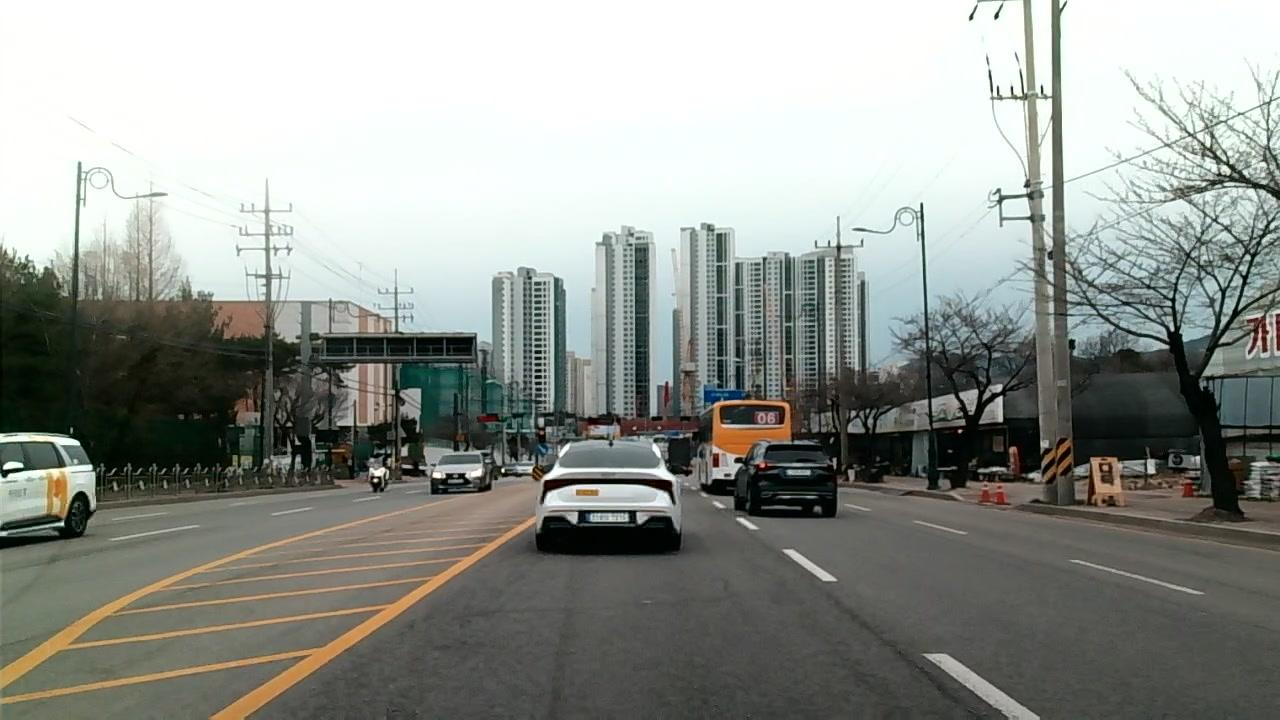vcrack: (823, 593, 986, 720)
